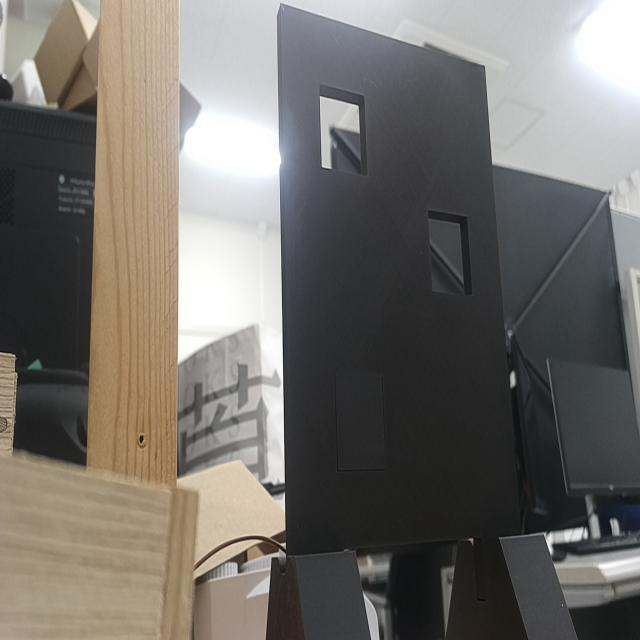Obstacle: (320, 83, 367, 174), (428, 212, 472, 299)
Wall: (282, 7, 519, 553)
